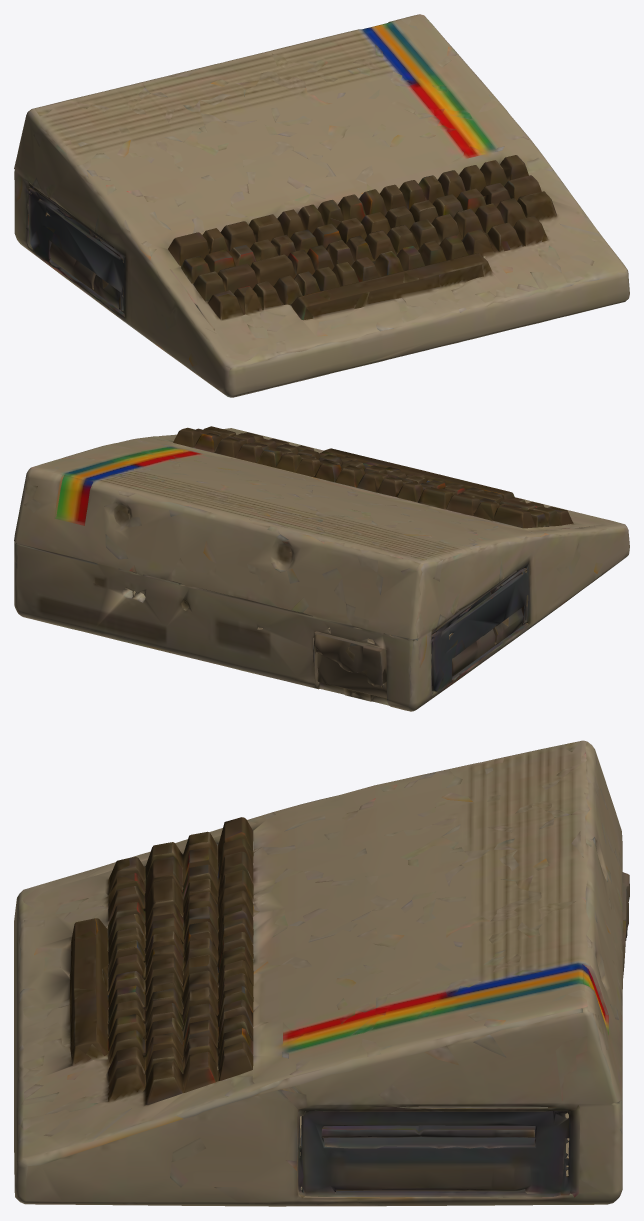
File: home_computer_keyboard.glb
The picture shows the model from 3 angles, top to bottom: view 1: azimuth 30°, elevation 25°; view 2: azimuth 150°, elevation 25°; view 3: azimuth 270°, elevation 25°; orthographic projection. The views are drawn at different scales.
Visible parts, largest first — view 1: geometry_0; view 2: geometry_0; view 3: geometry_0.
Boxes of the visible parts, x1,y1,x2,y2 form: geometry_0: (14,14,629,397); geometry_0: (14,426,629,711); geometry_0: (14,740,629,1206).
Bounding box in the file's own units: 1 × 0.3411 × 0.9459.
1 material, 1 textured.
